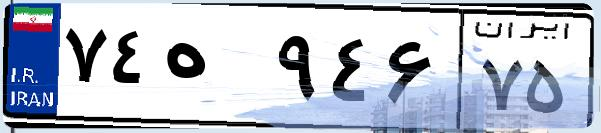4: (330, 28, 385, 110), (110, 28, 158, 98)
5: (525, 38, 570, 115)
6: (385, 28, 445, 110)
7: (57, 26, 110, 100), (475, 38, 525, 113)
9: (270, 28, 330, 110)
ه: (158, 20, 270, 120)
